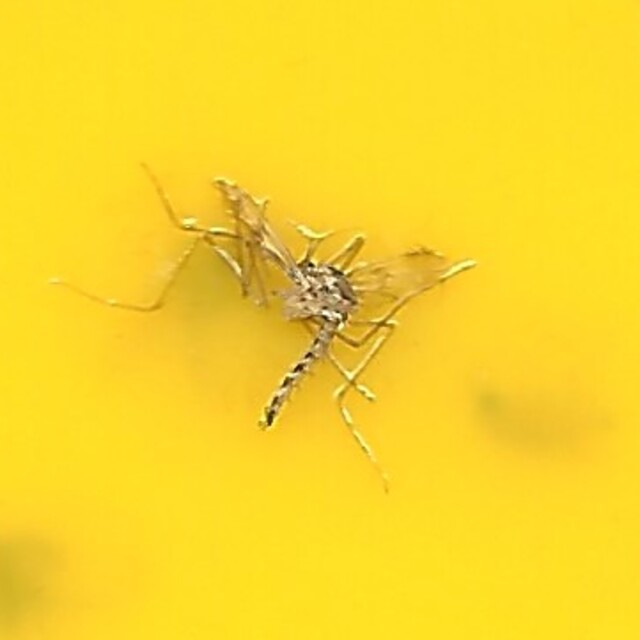Nematocera: (177, 171, 463, 469)
